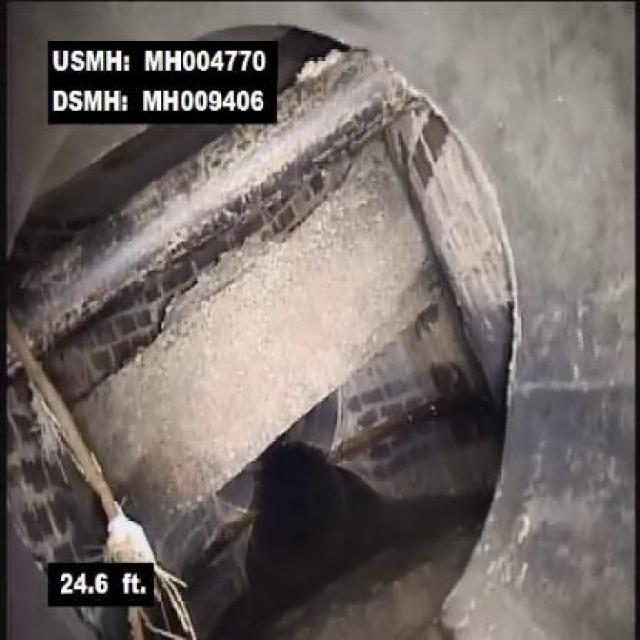Utility intrusion: (2, 138, 246, 362), (237, 26, 420, 183)
